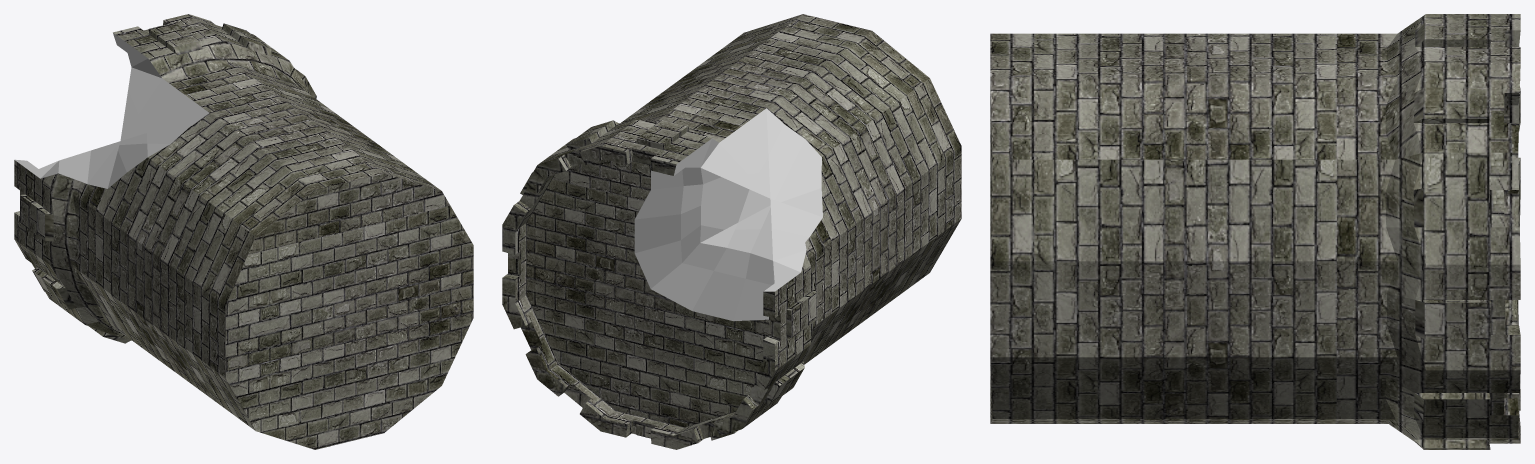
The model's file is Castle_Tower_1B(Gr).fbx.
3 views of the same model, side by side, from view 1: azimuth 30°, elevation 25°; view 2: azimuth 150°, elevation 25°; view 3: azimuth 270°, elevation 25° (orthographic). The views are drawn at different scales.
Parts seen in each view (by area): view 1: Cube; view 2: Cube; view 3: Cube.
Part boxes in pixels (bbox=[...]): Cube: bbox=[14, 14, 473, 449]; Cube: bbox=[502, 14, 961, 449]; Cube: bbox=[990, 14, 1520, 449].
Size of the model in its own units: 1429 by 1429 by 1738.
